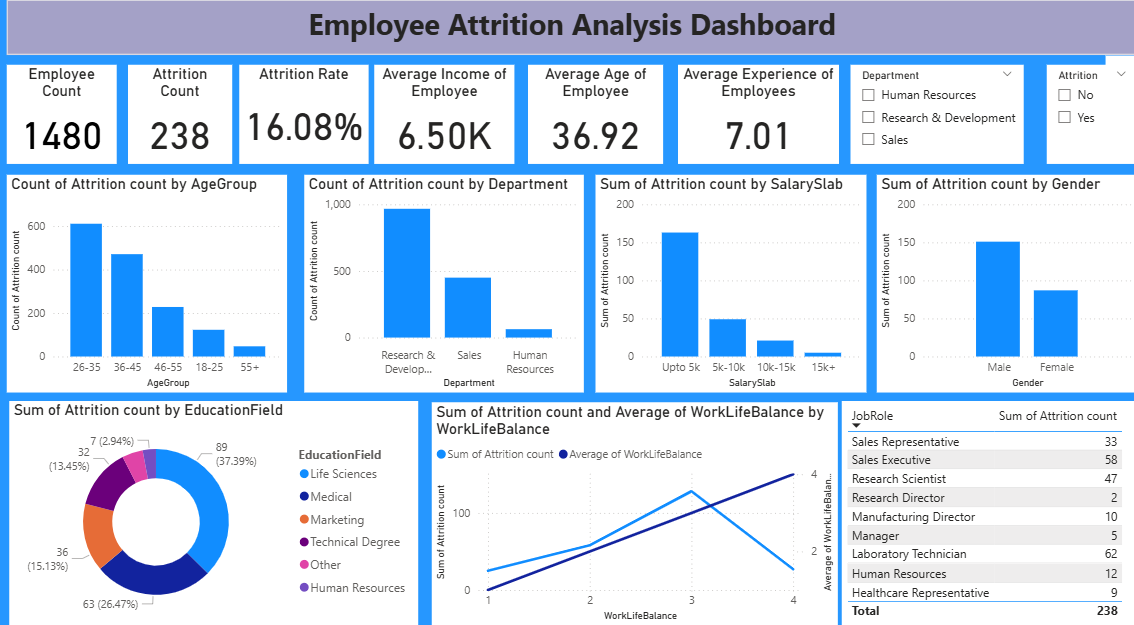

What the dashboard file says about the page in this screenshot:
{"tool":"powerbi","page":{"name":"Insights","canvas":[1280,720],"ordinal":0},"visuals":[{"type":"textbox","box":[9.4,9.4,1258.7,61.9],"z":0},{"type":"card","title":"Employee Count","fields":{"Values":["Sum(HR_Analytics.EmployeeCount)"]},"box":[9.4,82.1,122.5,110.4],"z":1000},{"type":"card","title":"Attrition Count","fields":{"Values":["Sum(HR_Analytics.Attrition count)"]},"box":[144,82.1,115.8,110.4],"z":2000},{"type":"card","title":"Attrition Rate ","fields":{"Values":["Sum(HR_Analytics.percentage calaculate)"]},"box":[267.9,82.1,144,110.4],"z":3000},{"type":"card","title":"Average Income of Employee","fields":{"Values":["Avg(HR_Analytics.MonthlyIncome)"]},"box":[418.7,82.1,156.2,110.4],"z":4000},{"type":"card","title":"Average Experience of Employees","fields":{"Values":["Avg(HR_Analytics.YearsAtCompany)"]},"box":[756.6,82.1,179,110.4],"z":5000},{"type":"columnChart","fields":{"Category":["HR_Analytics.AgeGroup"],"Y":["CountNonNull(HR_Analytics.Attrition count)"]},"box":[9.4,204.6,312.3,242.3],"z":6000},{"type":"columnChart","fields":{"Y":["CountNonNull(HR_Analytics.Attrition count)"],"Category":["HR_Analytics.Department"]},"box":[340.6,204.6,311,242.3],"z":7000},{"type":"card","title":"Average Age of Employee","fields":{"Values":["Avg(HR_Analytics.Age)"]},"box":[589.7,82.1,150.8,110.4],"z":8000},{"type":"columnChart","fields":{"Category":["HR_Analytics.SalarySlab"],"Y":["Sum(HR_Analytics.Attrition count)"]},"box":[665,204.6,301.6,242.3],"z":9000},{"type":"columnChart","fields":{"Y":["Sum(HR_Analytics.Attrition count)"],"Category":["HR_Analytics.Gender"]},"box":[978.7,204.6,289.4,242.3],"z":10000},{"type":"donutChart","fields":{"Category":["HR_Analytics.EducationField"],"Y":["Sum(HR_Analytics.Attrition count)"]},"box":[12.1,456.4,455,250.4],"z":11000},{"type":"lineChart","fields":{"Y":["Sum(HR_Analytics.Attrition count)"],"Category":["HR_Analytics.WorkLifeBalance"],"Y2":["Avg(HR_Analytics.WorkLifeBalance)"]},"box":[483.3,457.7,452.3,249.1],"z":13000},{"type":"slicer","fields":{"Values":["HR_Analytics.Attrition"]},"box":[1167.2,82.1,101,110.4],"z":13001},{"type":"slicer","fields":{"Values":["HR_Analytics.Department"]},"box":[949.1,82.1,192.5,110.4],"z":13002},{"type":"tableEx","fields":{"Values":["HR_Analytics.JobRole","Sum(HR_Analytics.Attrition count)"]},"box":[939.7,456.4,328.5,250.4],"z":13003}]}

Visuals, with their boxes in screenshot pixels (x1, y1, x2, y2), scaled from the page's 1280x720 canvas onto the 1134x625 screenshot:
textbox: rect(8, 8, 1123, 62)
"Employee Count" card: rect(8, 71, 117, 167)
"Attrition Count" card: rect(128, 71, 230, 167)
"Attrition Rate " card: rect(237, 71, 365, 167)
"Average Income of Employee" card: rect(371, 71, 509, 167)
"Average Experience of Employees" card: rect(670, 71, 829, 167)
columnChart - HR_Analytics.AgeGroup x CountNonNull(HR_Analytics.Attrition count): rect(8, 178, 285, 388)
columnChart - CountNonNull(HR_Analytics.Attrition count) x HR_Analytics.Department: rect(302, 178, 577, 388)
"Average Age of Employee" card: rect(522, 71, 656, 167)
columnChart - HR_Analytics.SalarySlab x Sum(HR_Analytics.Attrition count): rect(589, 178, 856, 388)
columnChart - Sum(HR_Analytics.Attrition count) x HR_Analytics.Gender: rect(867, 178, 1123, 388)
donutChart - HR_Analytics.EducationField x Sum(HR_Analytics.Attrition count): rect(11, 396, 414, 614)
lineChart - Sum(HR_Analytics.Attrition count) x HR_Analytics.WorkLifeBalance: rect(428, 397, 829, 614)
slicer - HR_Analytics.Attrition: rect(1034, 71, 1124, 167)
slicer - HR_Analytics.Department: rect(841, 71, 1011, 167)
tableEx - HR_Analytics.JobRole x Sum(HR_Analytics.Attrition count): rect(833, 396, 1124, 614)
